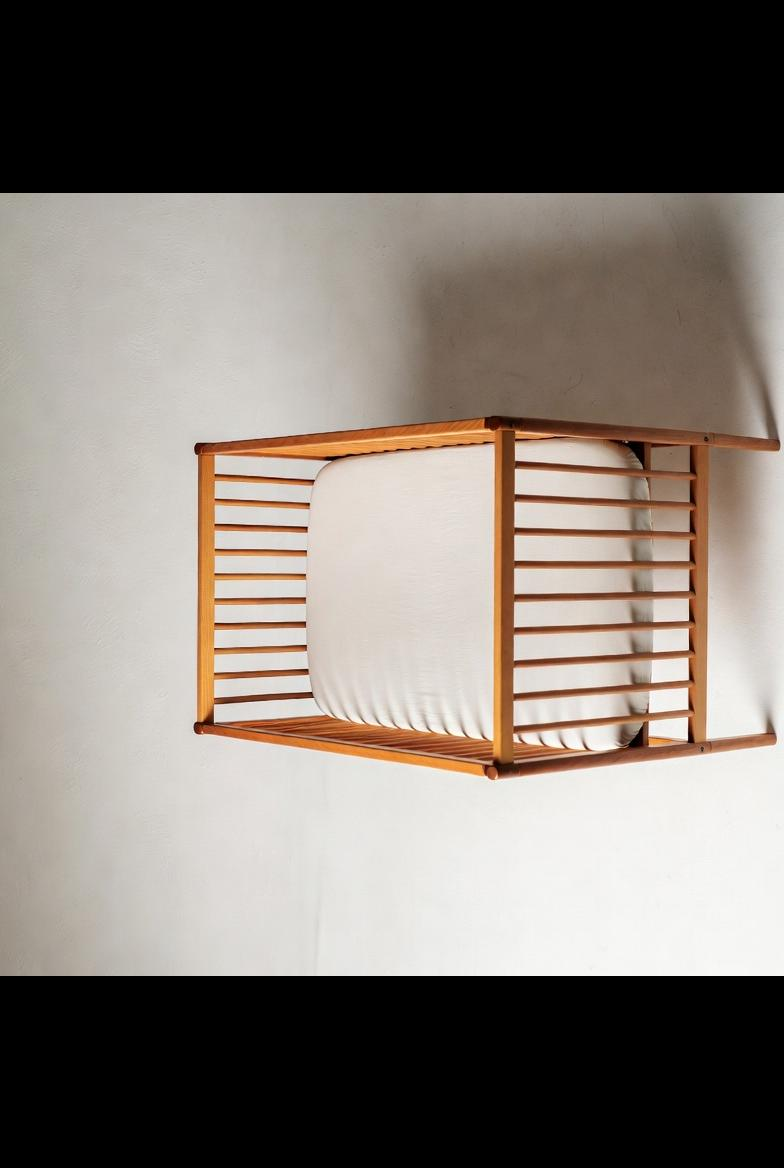crib: (195, 416, 779, 778)
